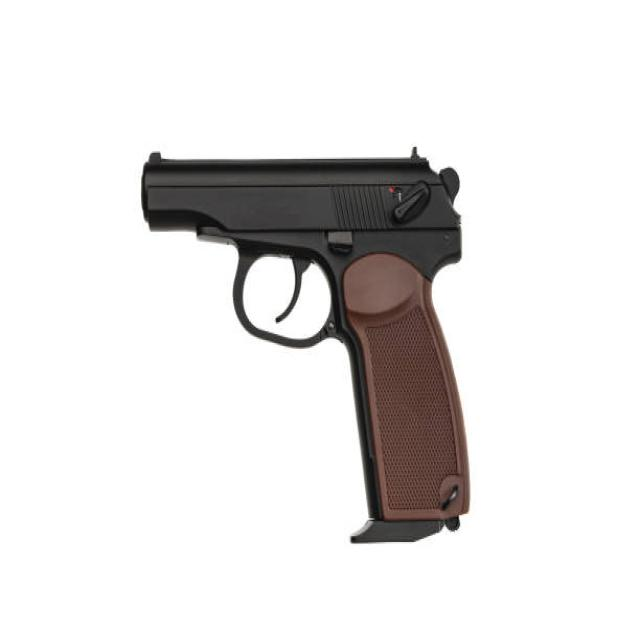pistol: (134, 143, 476, 561)
